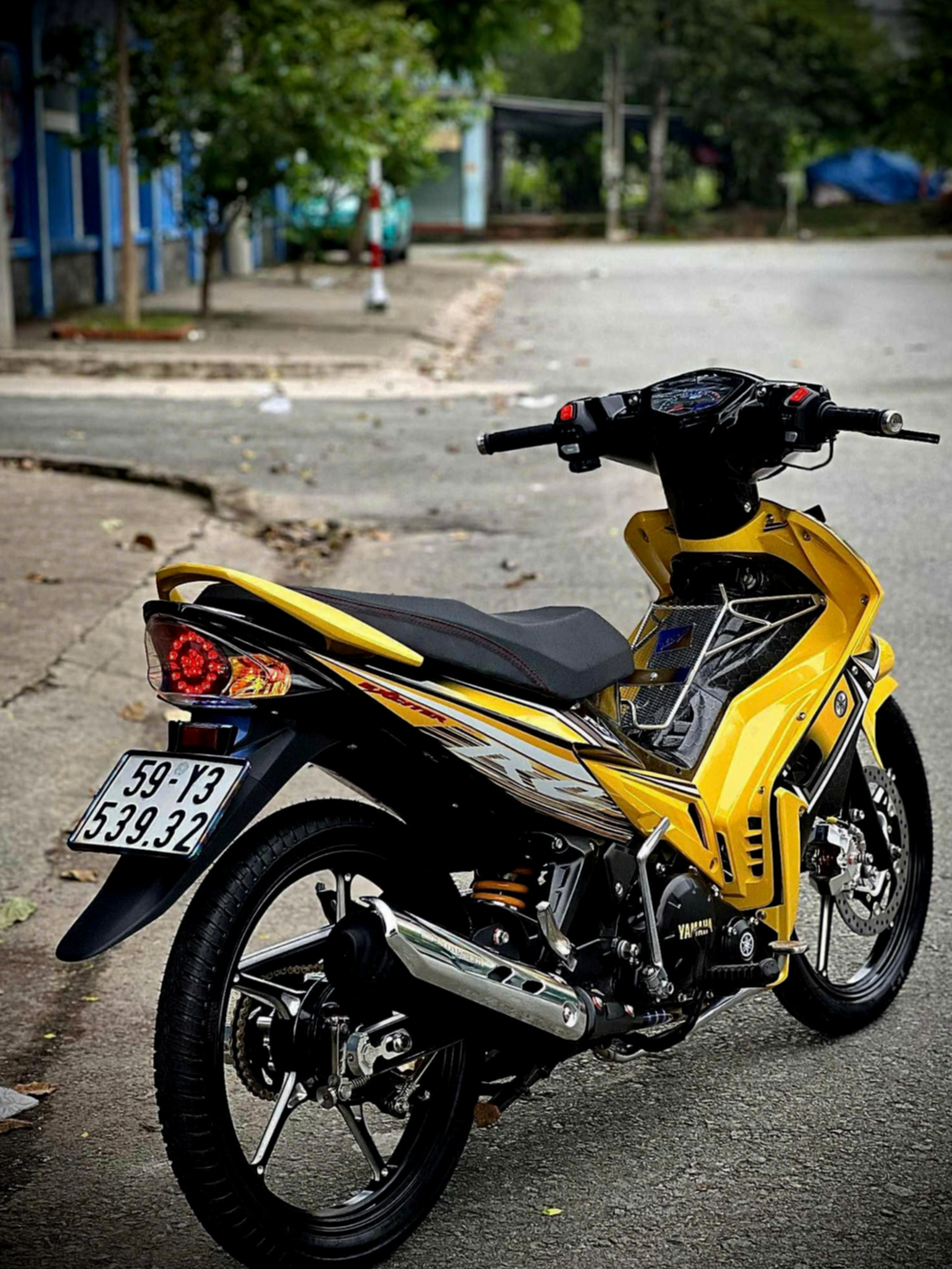Bien-so: (68, 750, 252, 859)
